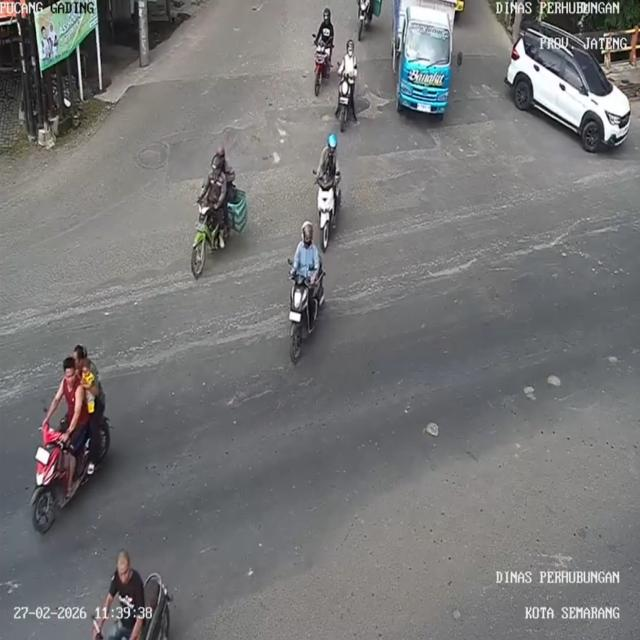motorcycle: (28, 428, 96, 530), (188, 200, 232, 281), (289, 266, 318, 360), (139, 570, 173, 640), (309, 172, 337, 249), (310, 38, 332, 98), (337, 75, 356, 131), (357, 1, 372, 41)
person: (98, 547, 152, 639), (47, 358, 87, 438), (74, 344, 106, 407), (288, 220, 319, 284), (315, 134, 342, 182), (200, 158, 226, 206), (313, 7, 336, 53), (77, 364, 98, 414), (216, 147, 236, 188), (340, 40, 358, 79)
rider_region: (27, 343, 114, 532), (190, 141, 251, 279), (92, 545, 172, 640), (288, 215, 326, 359), (314, 136, 344, 254), (335, 38, 360, 135), (310, 6, 336, 97)
